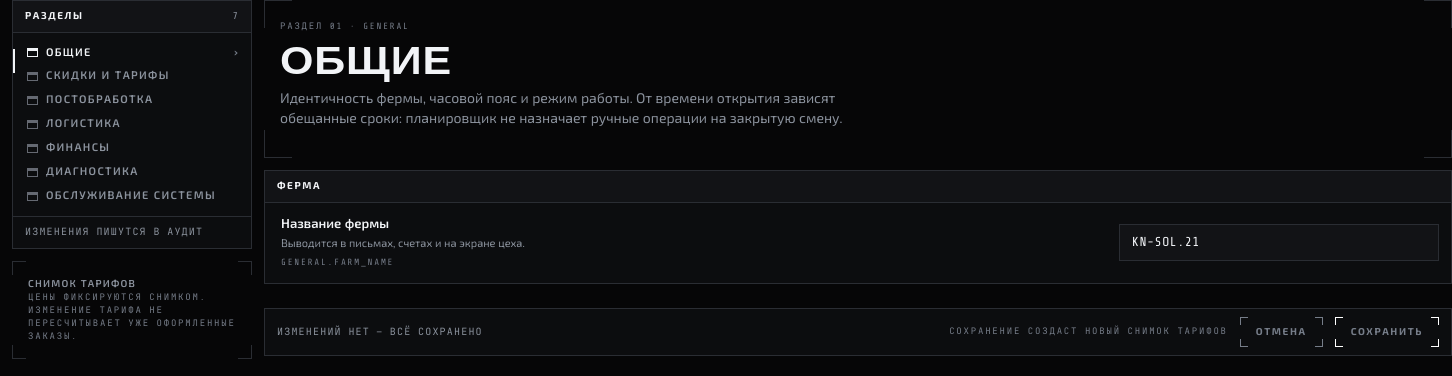
editing › revert returns the row to the committed value and clears the bar
The image size is (1452, 376).
Clear the field named "Название фермы" at (1279, 243), box x1=1119 y1=224 x2=1439 y2=261
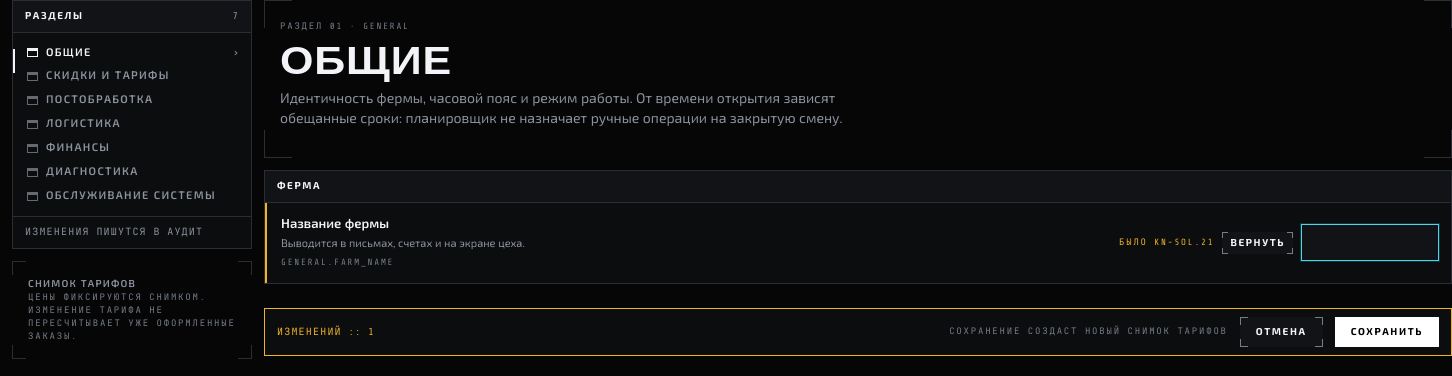
Type "KN-SOL.42" into the field named "Название фермы" at (1370, 243), box x1=1301 y1=224 x2=1439 y2=261
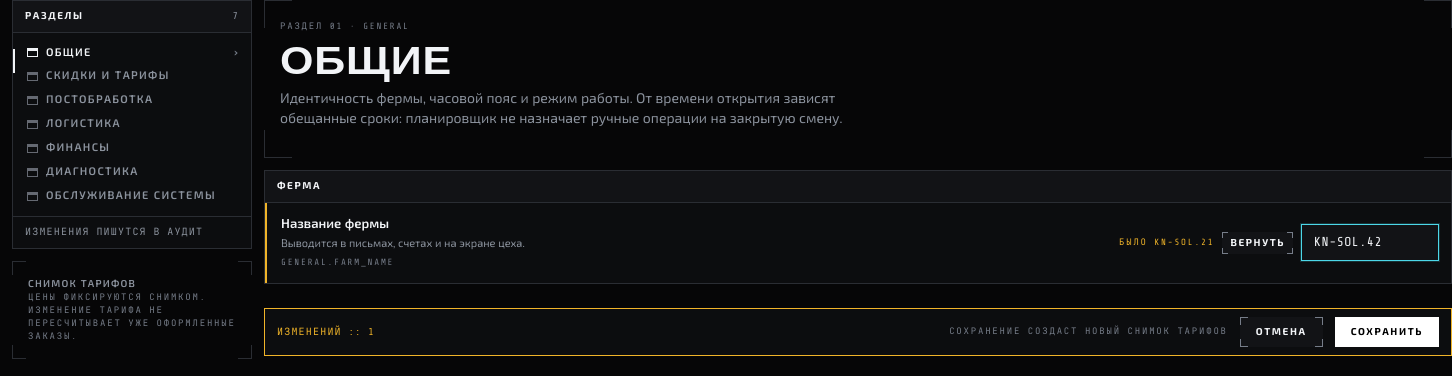
Check: the text "ИЗМЕНЕНИЙ :: 1" is shown, box x1=277 y1=325 x2=375 y2=339
Click the button "Вернуть" at (1258, 243), box x1=1222 y1=232 x2=1293 y2=254
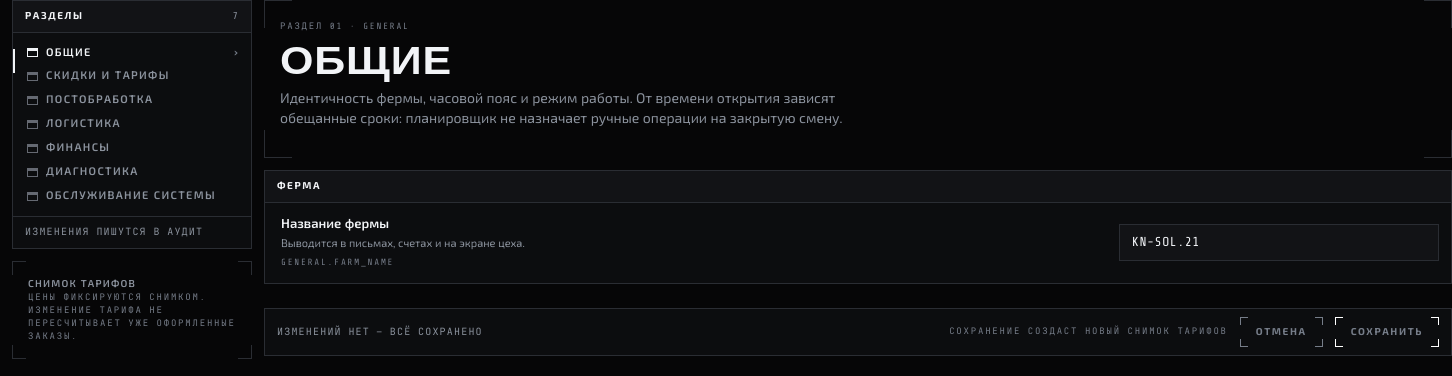
Check: the text "ИЗМЕНЕНИЙ НЕТ — ВСЁ СОХРАНЕНО" is shown, box x1=277 y1=325 x2=483 y2=339
Check: the field named "Название фермы" holds "KN-SOL.21", box x1=1119 y1=224 x2=1439 y2=261
